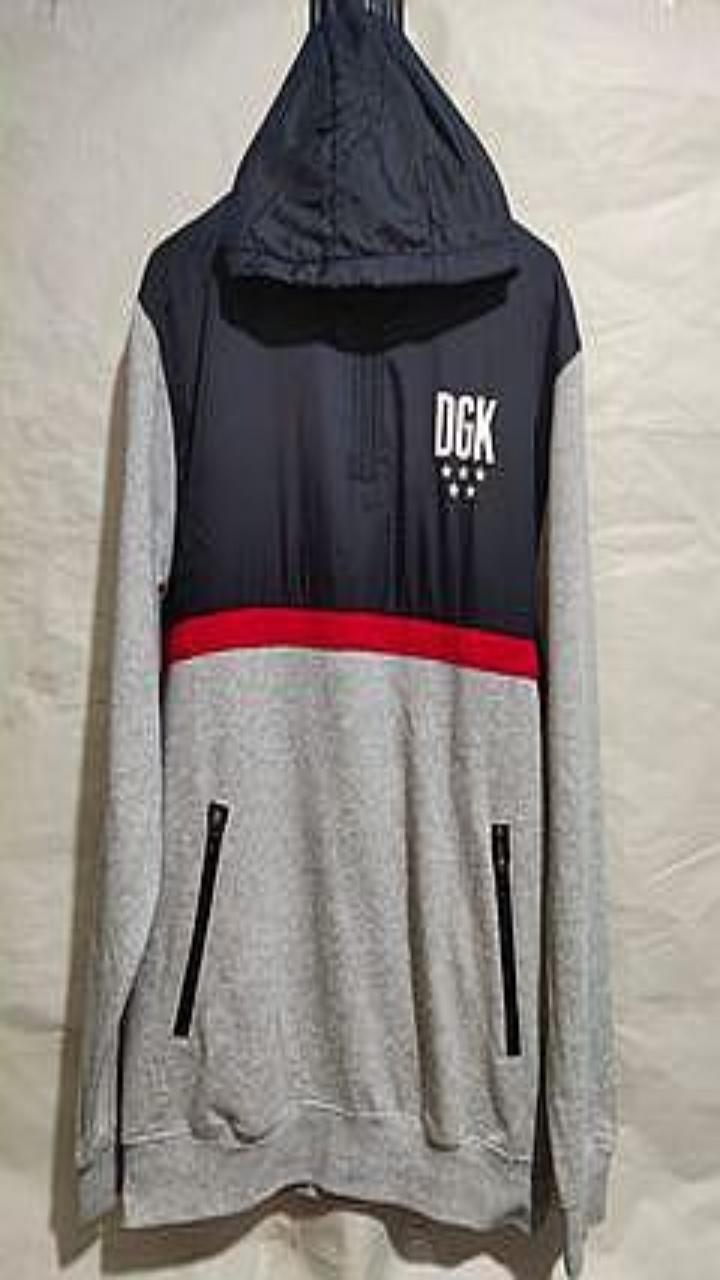Sports_Jacket: (75, 0, 615, 1276)
